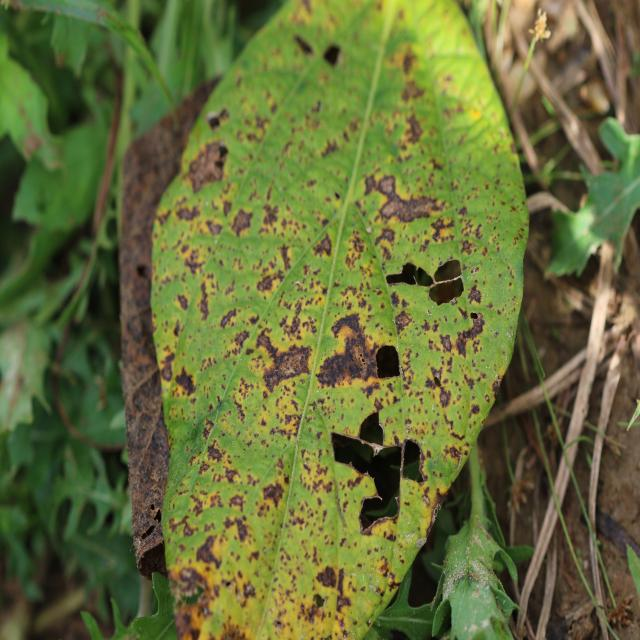Bacterial_Blight: (327, 309, 388, 387), (389, 256, 468, 312), (363, 468, 423, 535), (373, 176, 446, 226), (182, 141, 239, 200), (260, 339, 314, 391), (132, 525, 169, 584), (177, 566, 208, 598), (22, 132, 46, 162), (260, 480, 285, 508), (173, 367, 196, 397), (402, 112, 424, 142), (183, 248, 205, 277), (400, 77, 425, 102), (312, 232, 332, 258), (315, 565, 336, 589), (206, 108, 228, 130), (323, 44, 342, 67), (295, 35, 314, 57), (219, 307, 238, 329), (140, 523, 157, 540), (438, 387, 451, 407), (243, 581, 256, 598), (135, 263, 147, 278)
Soybean: (121, 0, 528, 640)
